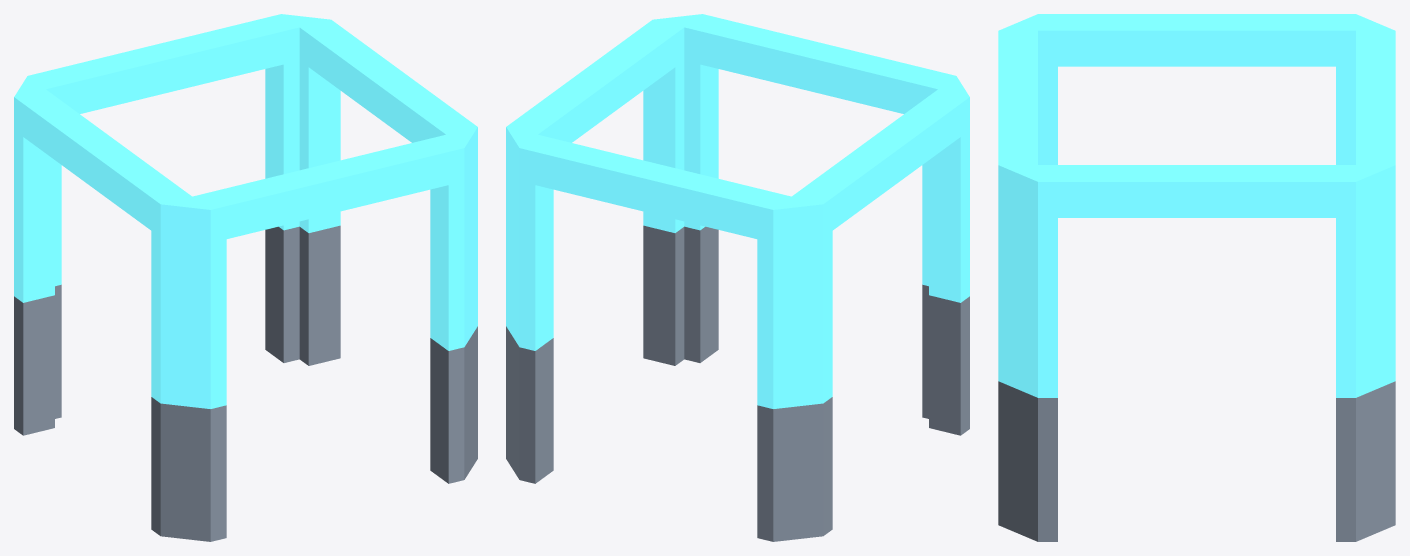
File: structure.glb
3 renders of one model, left to right at view 1: azimuth 30°, elevation 25°; view 2: azimuth 150°, elevation 25°; view 3: azimuth 270°, elevation 25°, orthographic. The views are drawn at different scales.
Visible parts, largest first — view 1: structure; view 2: structure; view 3: structure.
Boxes of the visible parts, x1,y1,x2,y2 form: structure: [14, 14, 477, 541]; structure: [506, 14, 969, 541]; structure: [998, 14, 1395, 541].
Bounding box in the file's own units: 1 × 1 × 1.
